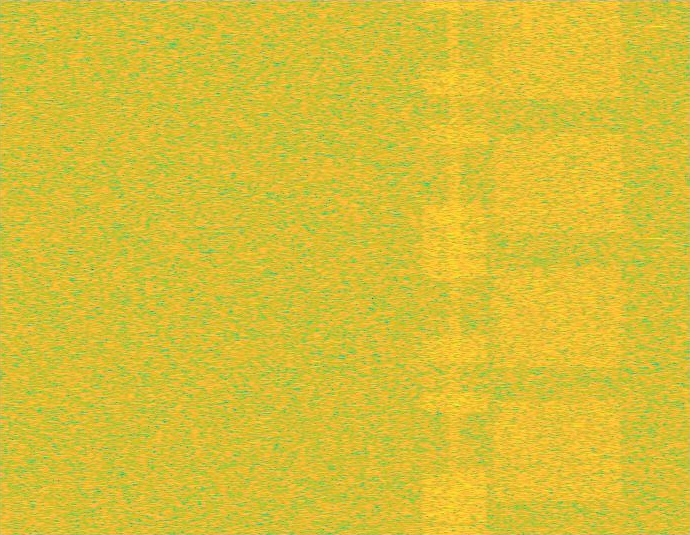5G: (489, 0, 627, 534)
DSSS: (447, 0, 462, 534)
LTE: (420, 0, 489, 534)
Radar: (650, 0, 664, 534)
